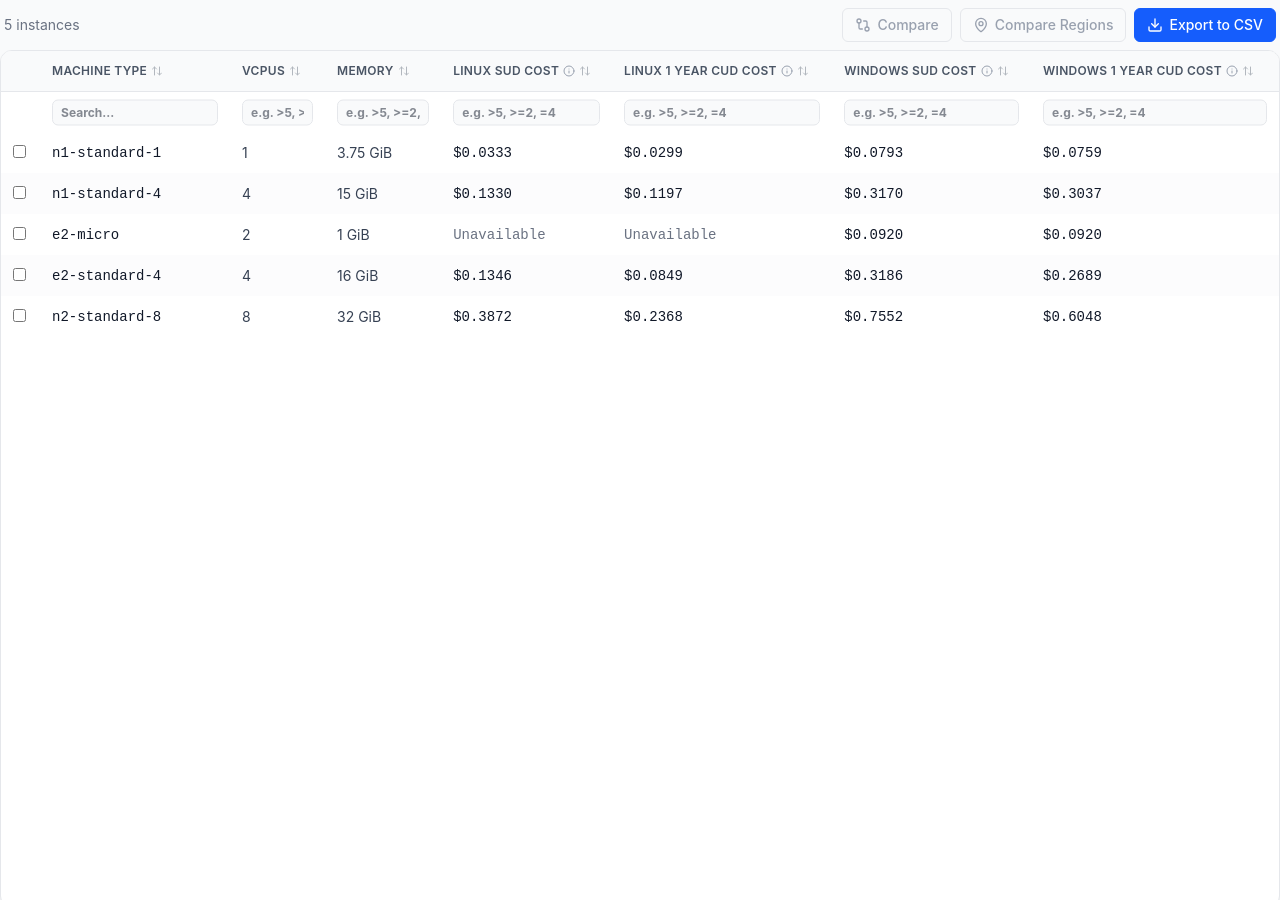
Test: PricingTable › enables compare button when 2+ rows selected
This screenshot has width=1280, height=900.
Expected: the button "Compare" is disabled, 842,8 -> 952,42
// Click first two data rows (in the body table)
Click the row "n1-standard-1 1 3.75 GiB $0.0333 $0.0299 $0.0793 $0.0759". click: x=640, y=152
box: 1,132 -> 1279,173
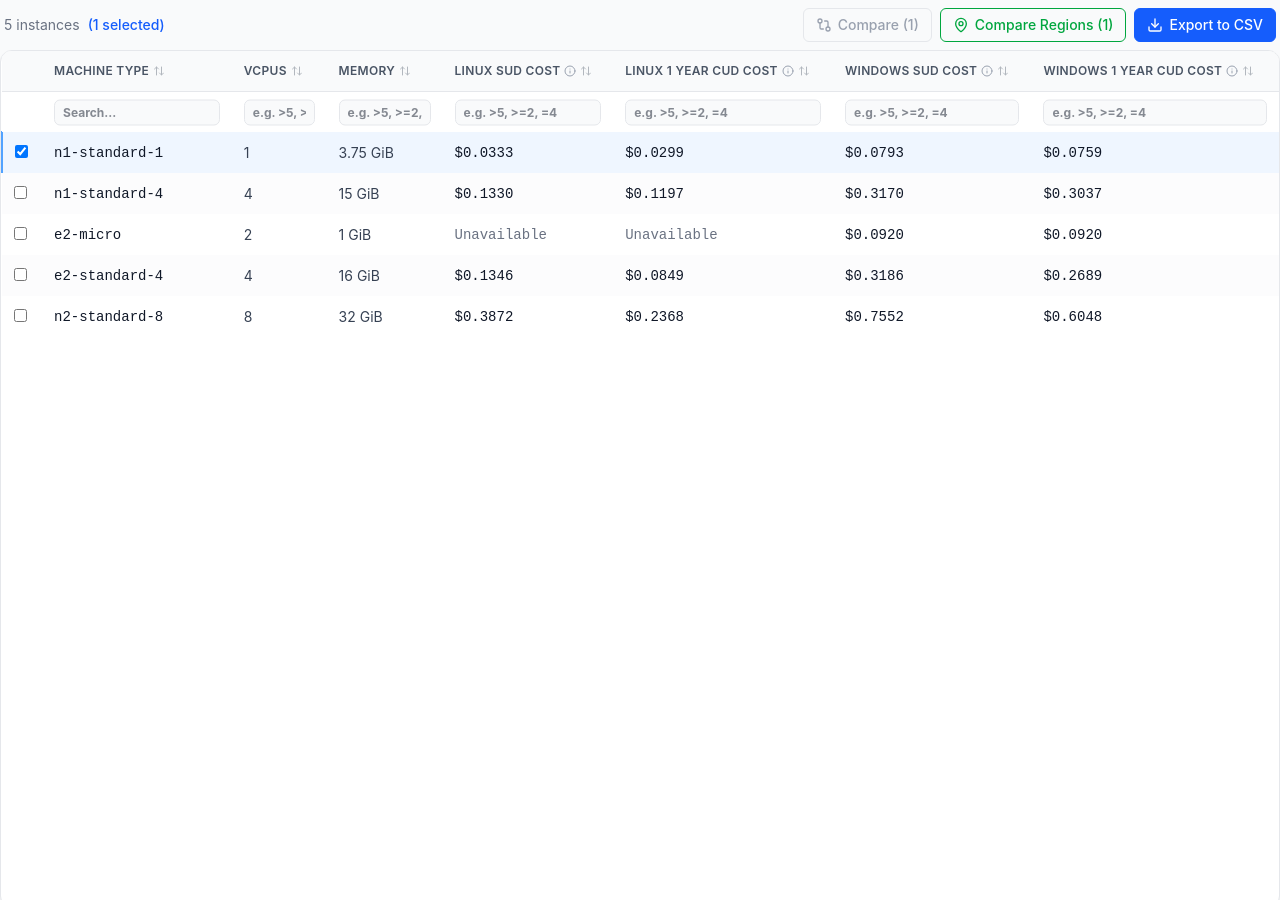
Click the row "n1-standard-4 4 15 GiB $0.1330 $0.1197 $0.3170 $0.3037". click: x=640, y=194
box: 2,173 -> 1279,214
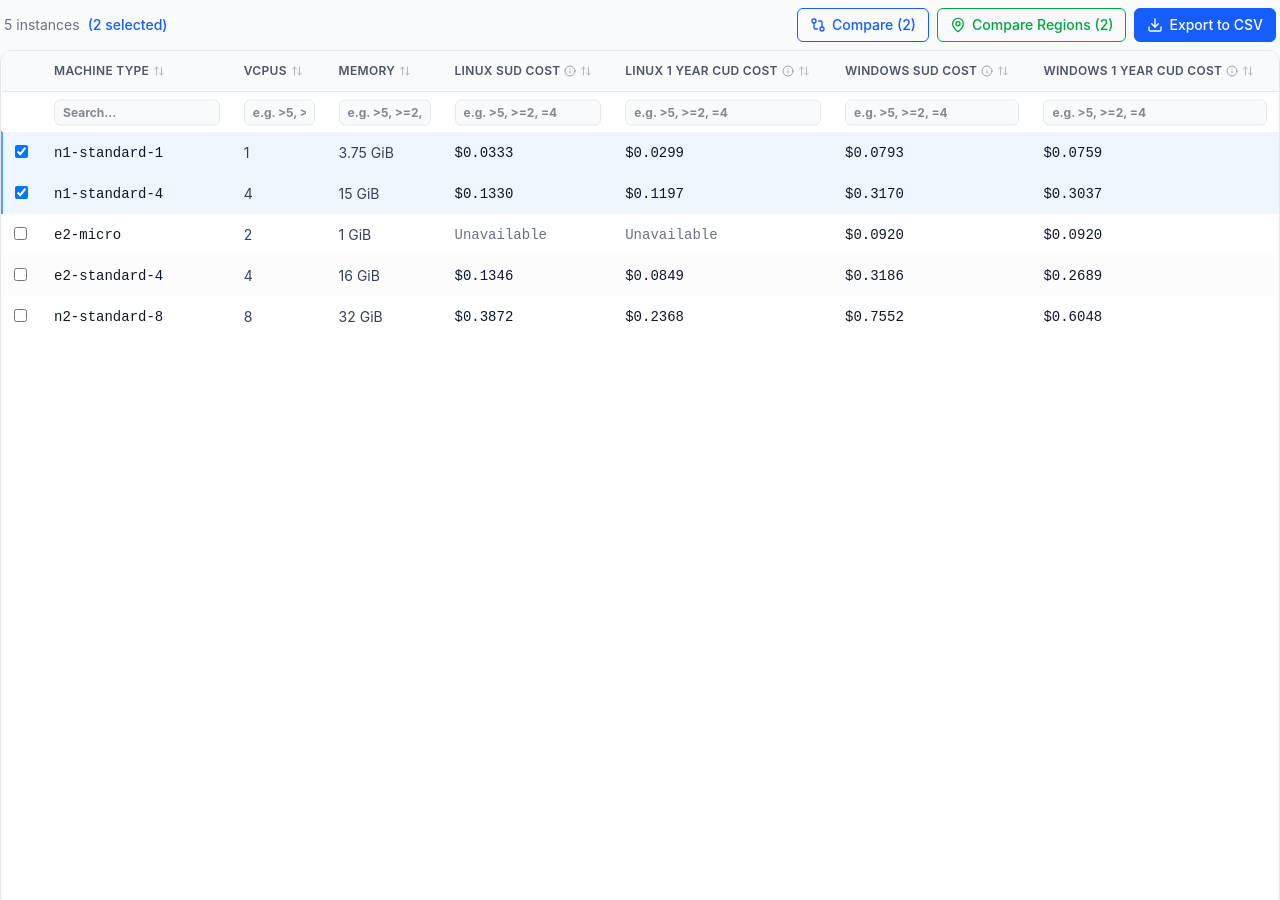
Result: the button "Compare (2)" is enabled at 797,8 -> 929,42
